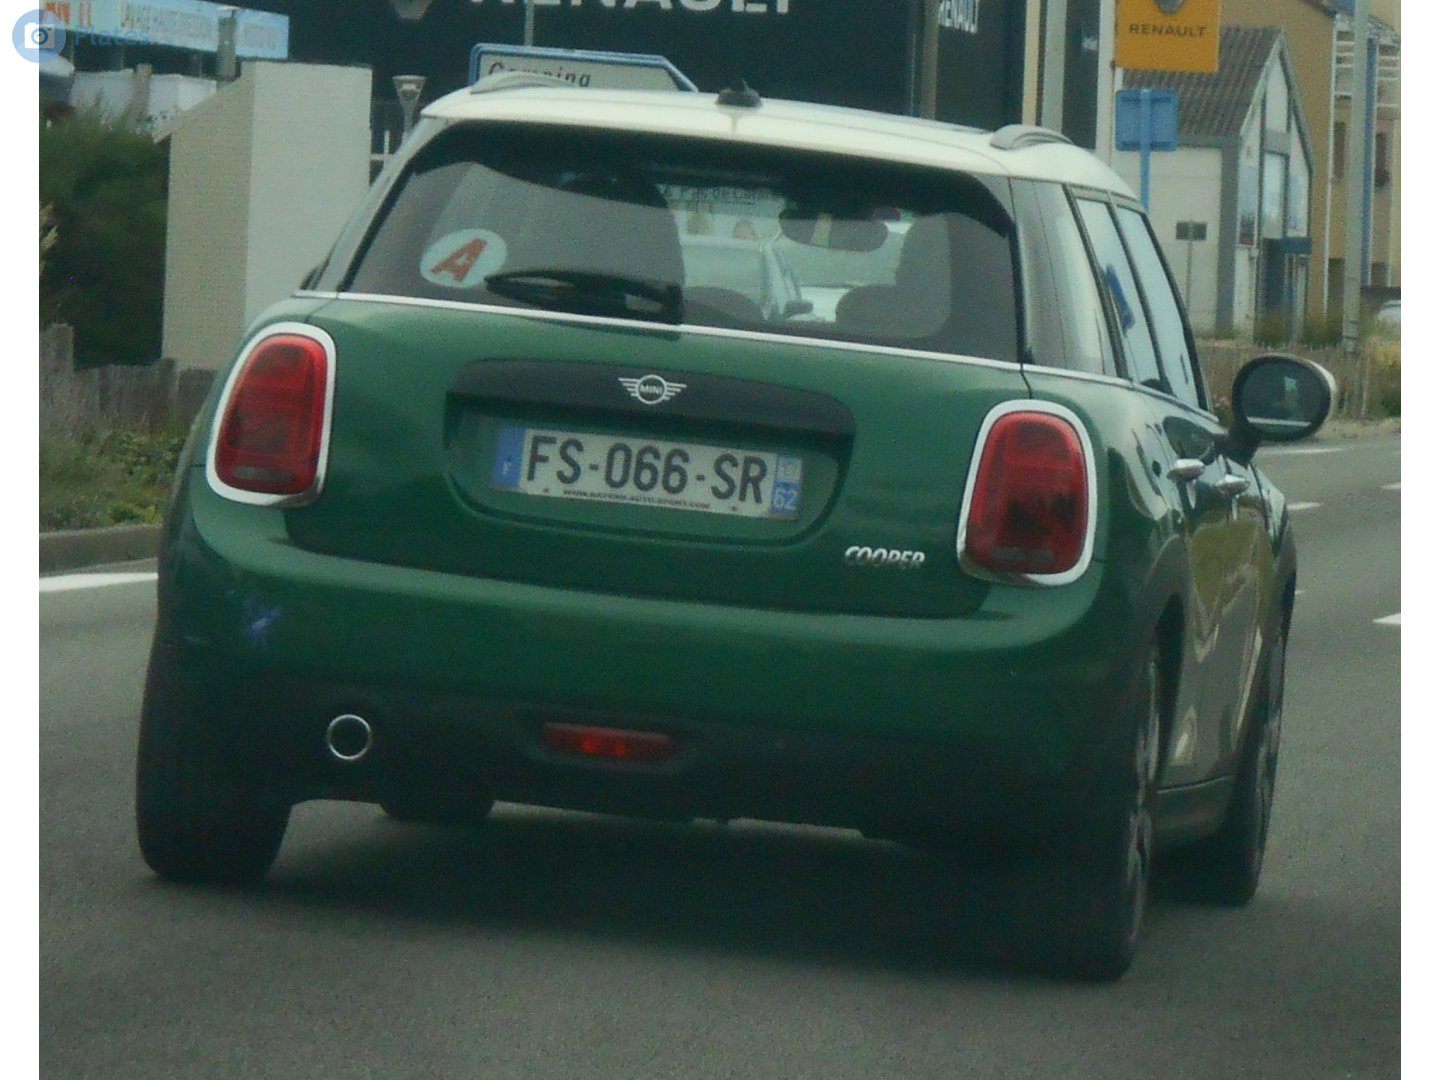licence plate: (484, 416, 808, 530)
